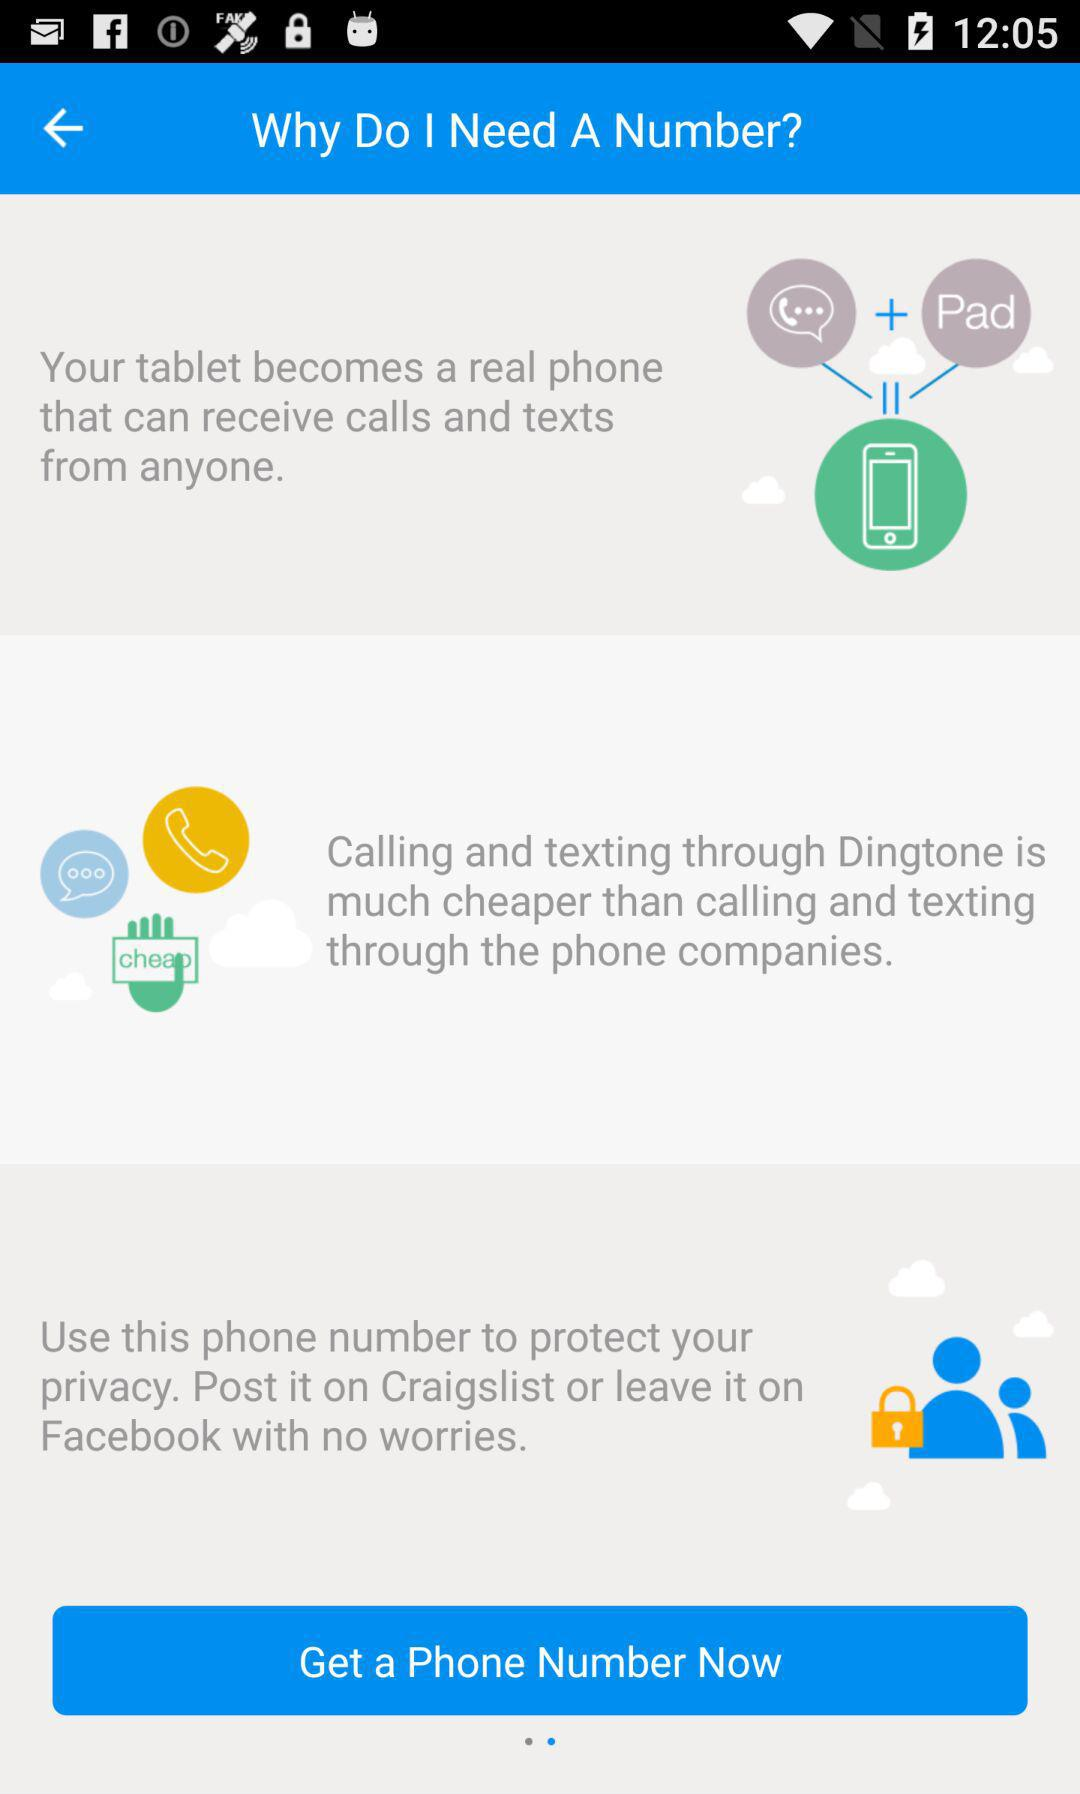Icon: (42, 108, 86, 150)
Image: (746, 258, 1056, 573), (36, 786, 313, 1019), (846, 1256, 1052, 1508)
PageIndicator: (524, 1736, 557, 1747)
Text: (324, 833, 1051, 979), (38, 1319, 811, 1456), (36, 349, 666, 492), (252, 110, 803, 160)
TextButton: (53, 1606, 1029, 1716)
Toolbar: (1, 67, 1080, 196)
UpperTaskBar: (1, 1, 1080, 64)
